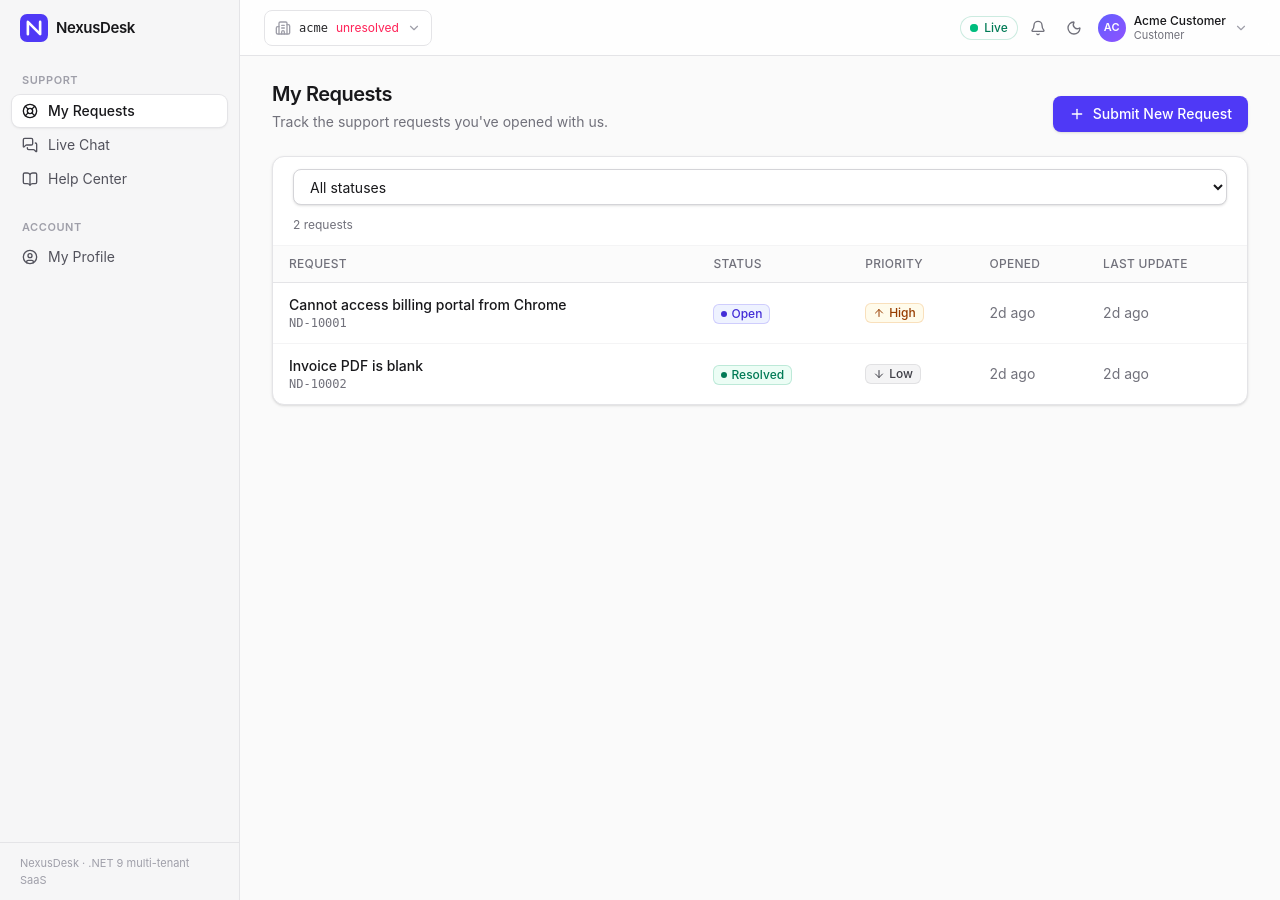
Test: Customer portal › lists my requests and filters by status
Expected: the row with test id "portal-row-ND-10001" shows "Cannot access billing portal from Chrome", [289,296,567,313]
Expected: the row with test id "portal-row-ND-10002" shows "Resolved", [732,367,784,382]
Select "Resolved" in the dropdown named "Filter by status" at (760, 187), box [293,169,1227,205]
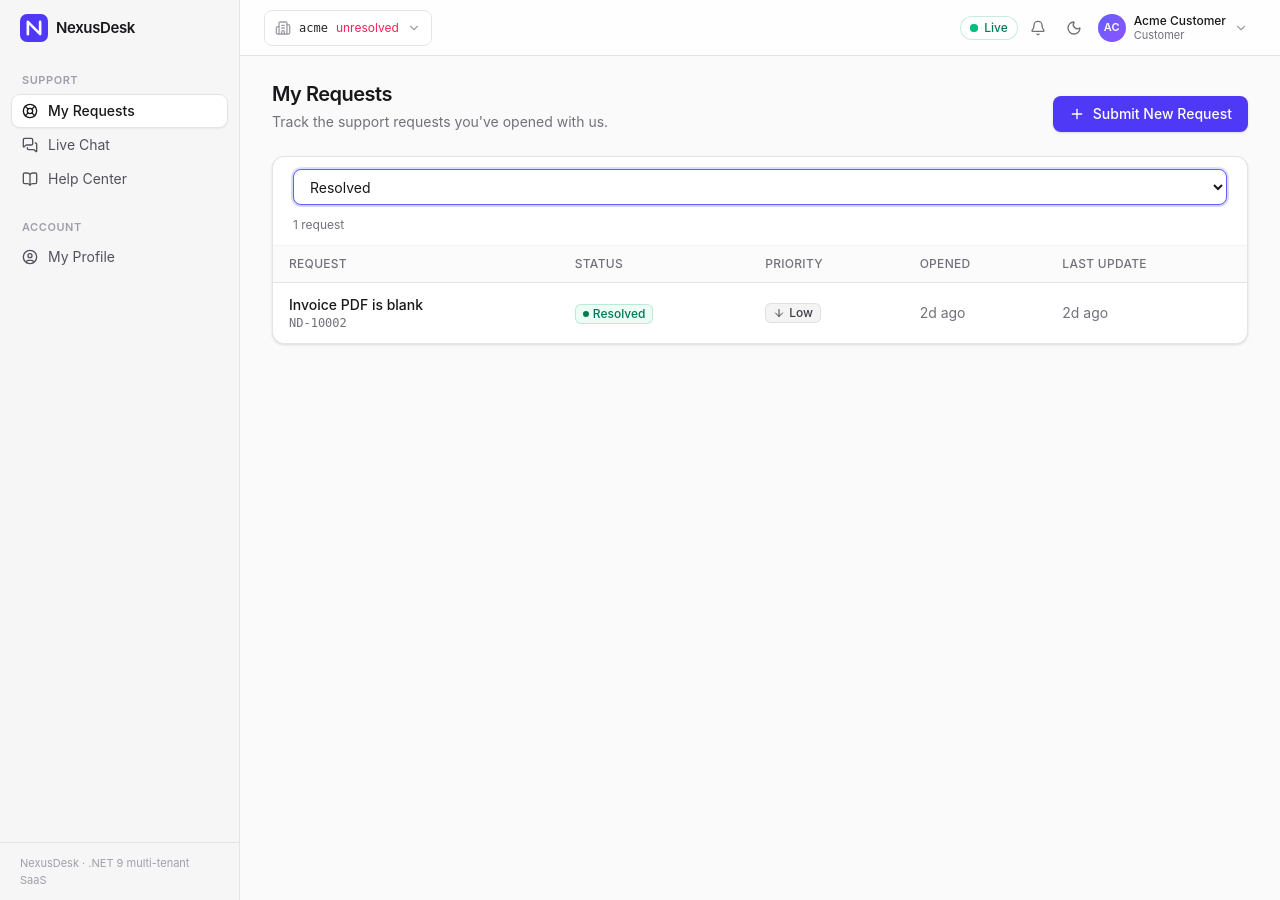
Result: the row with test id "portal-row-ND-10001" is gone
